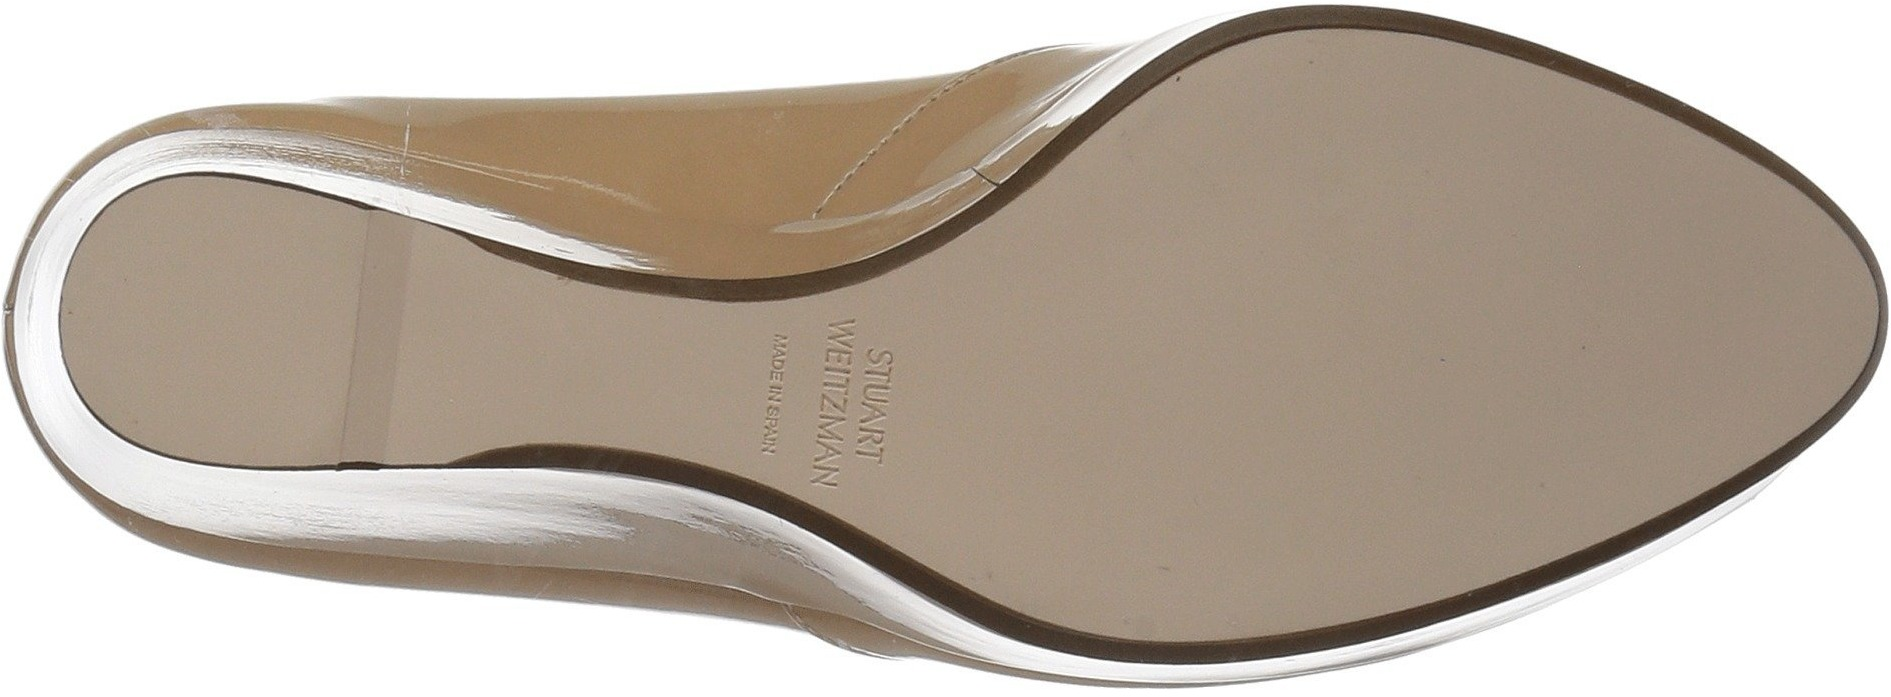other: (955, 248, 1275, 564), (1475, 245, 1719, 480), (103, 221, 322, 422), (1331, 43, 1530, 241), (1286, 416, 1470, 584), (1282, 245, 1469, 408), (1183, 84, 1327, 241), (1535, 106, 1696, 234)
text: (768, 310, 943, 490)
